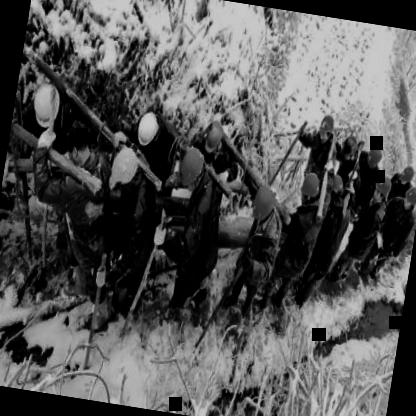head: (51, 115, 95, 181)
helmet: (28, 78, 67, 134), (173, 146, 209, 197), (106, 147, 138, 197), (249, 179, 279, 228), (134, 104, 164, 151), (198, 115, 226, 158), (296, 170, 321, 210), (312, 112, 336, 150), (370, 170, 394, 206), (326, 172, 348, 208), (338, 134, 360, 165), (364, 141, 386, 169), (398, 161, 416, 187), (400, 184, 416, 213)
